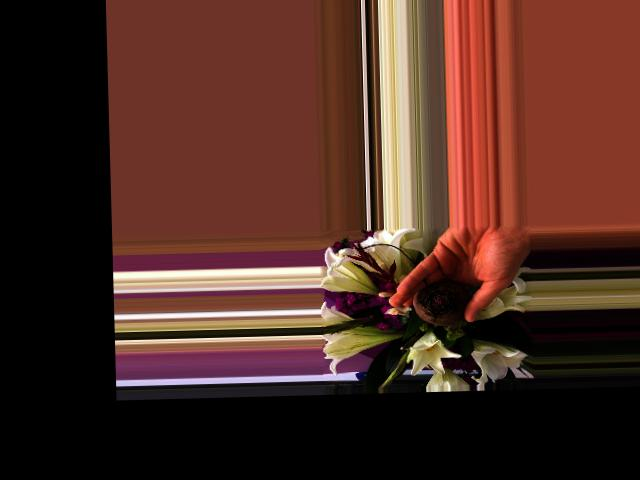beet: (411, 278, 469, 326)
